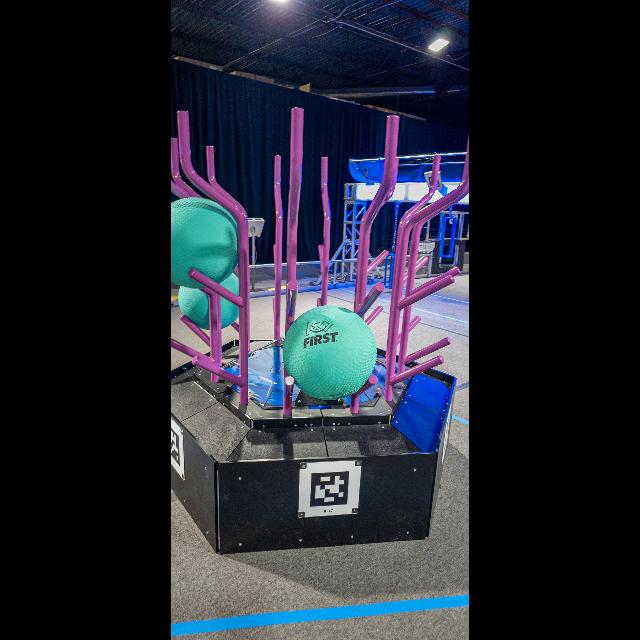ALGAE: (284, 306, 378, 400), (172, 198, 238, 288), (179, 274, 239, 330)
